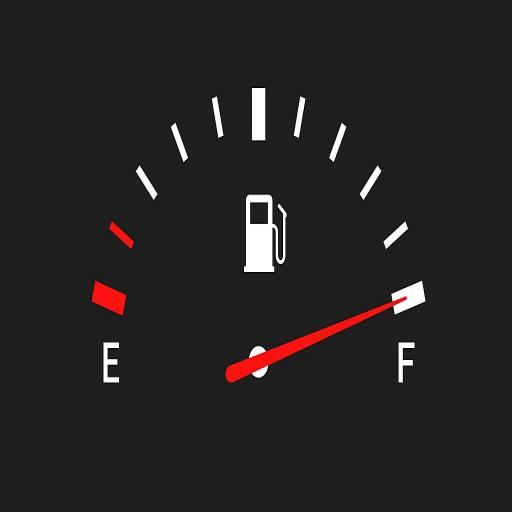empty: (100, 339, 122, 389)
fuel_icon: (243, 191, 287, 275)
full: (397, 337, 417, 388)
guage_area: (73, 80, 434, 438)
needle_center: (248, 342, 274, 383)
needle_tip: (382, 288, 406, 316)
